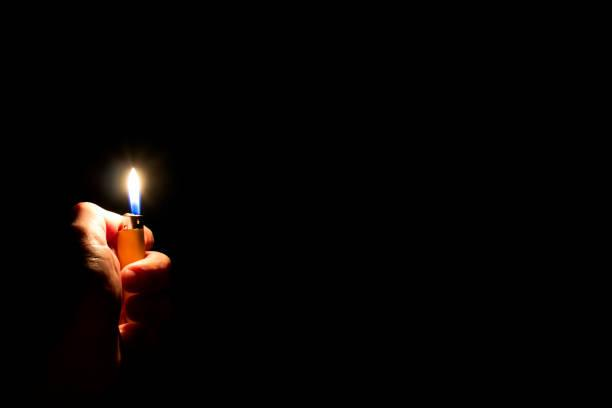Fire: (123, 158, 144, 214)
